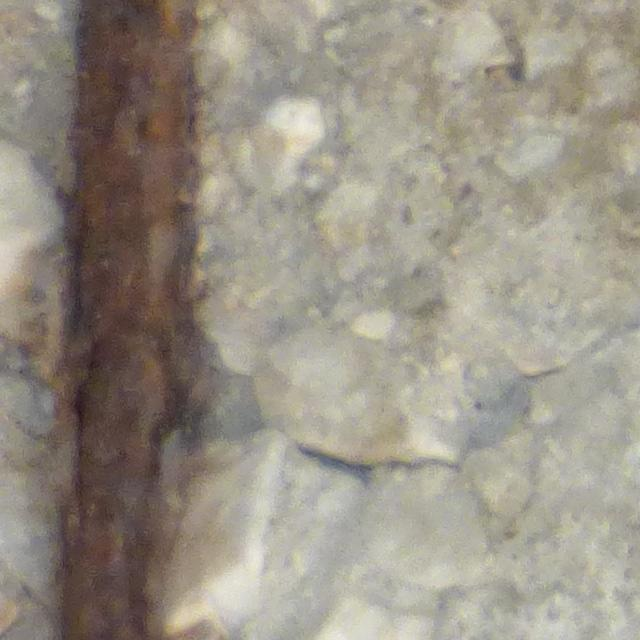Rust: (57, 5, 207, 637)
